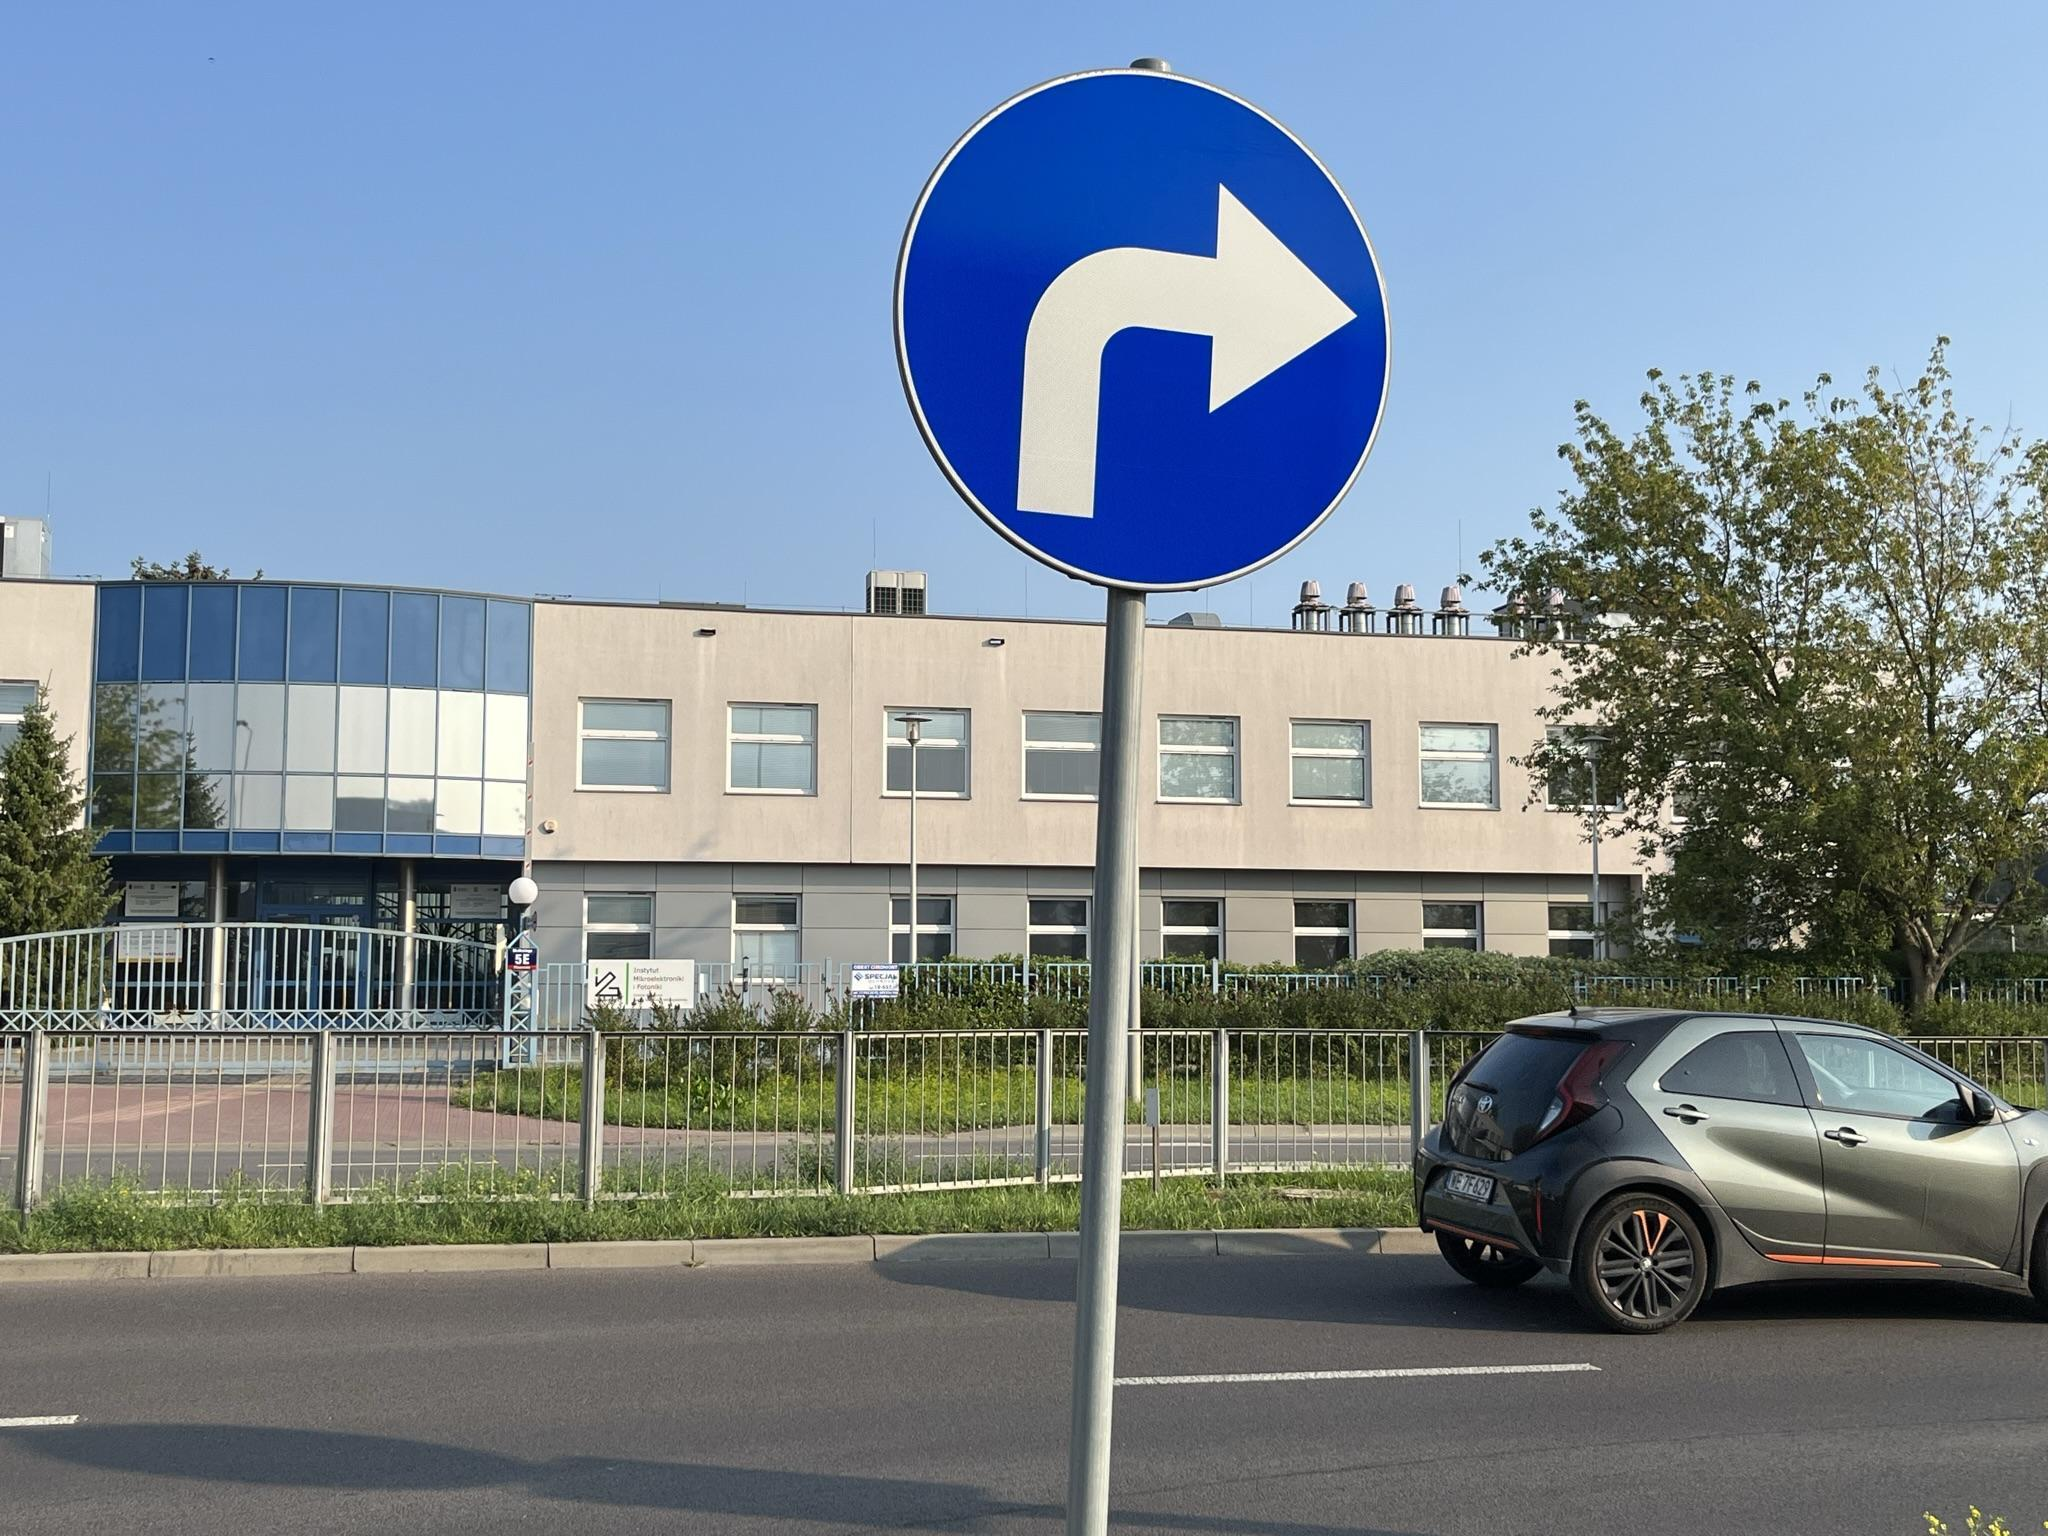mandatory: (892, 65, 1393, 595)
